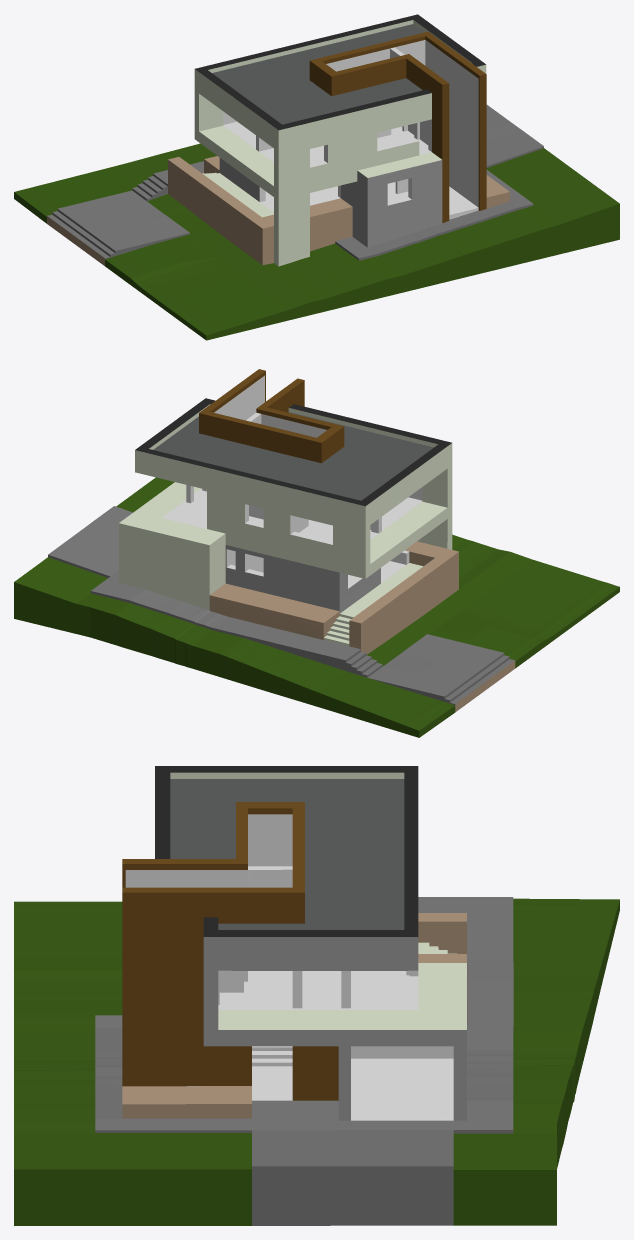
The model's file is casaClim_OUTTER-SHELL.glb.
3 renders of one model, top to bottom at view 1: azimuth 30°, elevation 25°; view 2: azimuth 150°, elevation 25°; view 3: azimuth 270°, elevation 25°, orthographic. The views are drawn at different scales.
Parts seen in each view (by area): view 1: Plane, Plane.001; view 2: Plane, Plane.001; view 3: Plane, Plane.001.
Boxes of the visible parts, left/top/right/bottom form: Plane: left=14, top=14, right=619, bottom=340; Plane.001: left=223, top=40, right=478, bottom=219; Plane: left=14, top=369, right=619, bottom=737; Plane.001: left=162, top=375, right=422, bottom=588; Plane: left=14, top=766, right=619, bottom=1225; Plane.001: left=125, top=814, right=453, bottom=1120.
Bounding box in the file's own units: 27.7 × 10.52 × 22.42.
